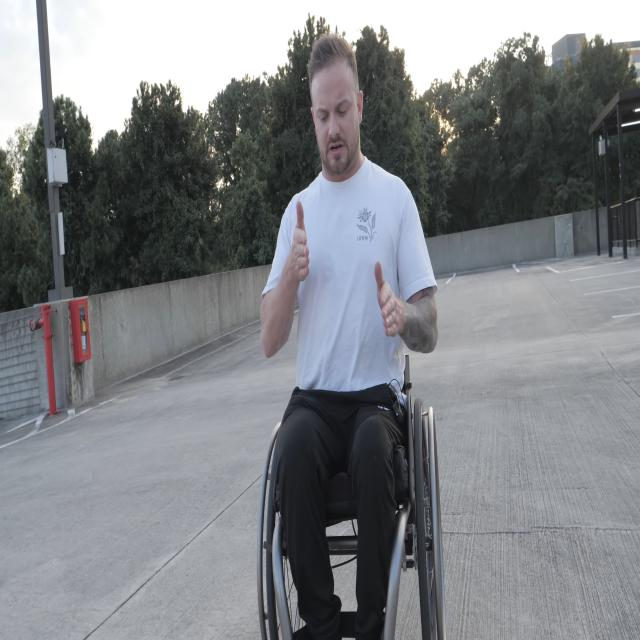wheelchairs: (256, 332, 446, 640)
